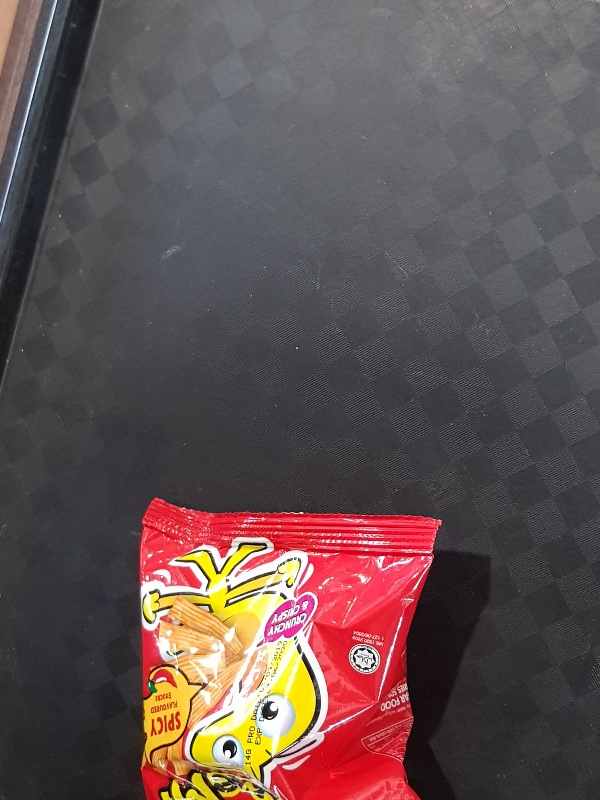ShoyueMi Spicy Flavoured Snacks: (134, 496, 444, 800)
